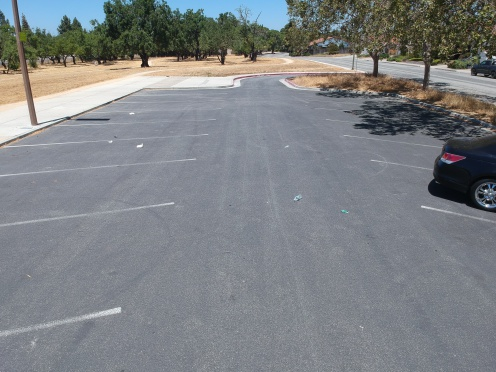bottle: (288, 189, 306, 203)
plastic bag: (134, 140, 145, 151)
